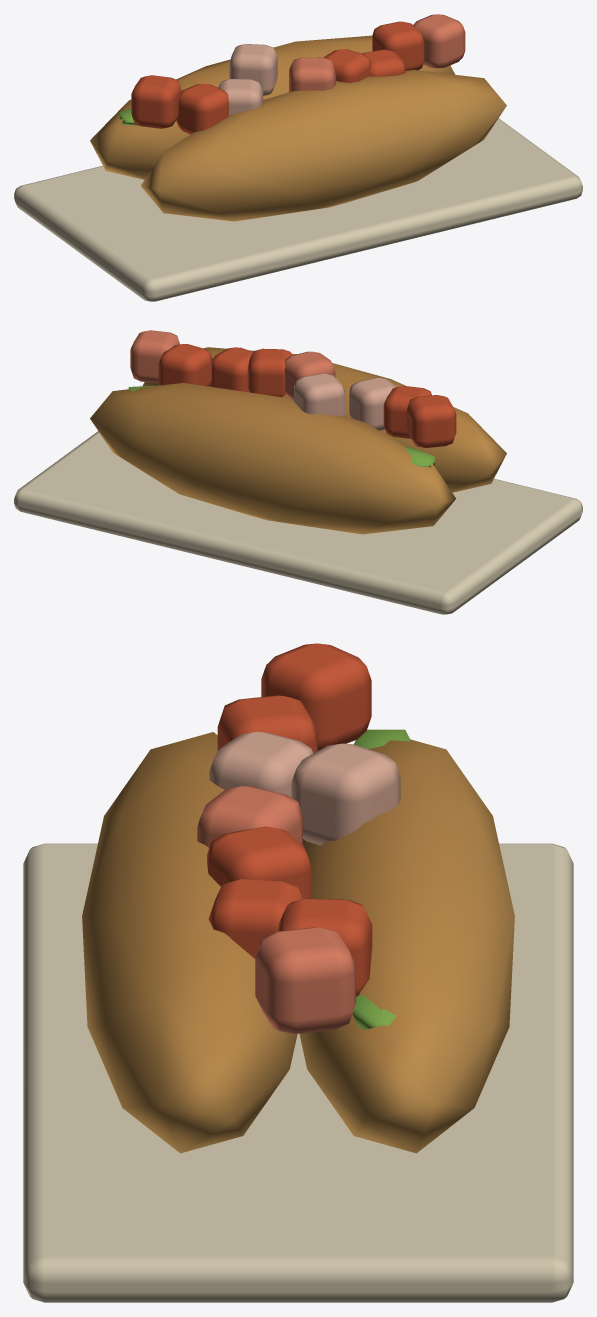
Rendered from item_dish_lobster_roll.glb.
3 views of the same model, one above another, from view 1: azimuth 30°, elevation 25°; view 2: azimuth 150°, elevation 25°; view 3: azimuth 270°, elevation 25° (orthographic). The views are drawn at different scales.
Visible parts, largest first — view 1: item_dish_lobster_roll_main; view 2: item_dish_lobster_roll_main; view 3: item_dish_lobster_roll_main.
Boxes of the visible parts, x1,y1,x2,y2 form: item_dish_lobster_roll_main: (14, 14, 582, 301); item_dish_lobster_roll_main: (14, 330, 582, 614); item_dish_lobster_roll_main: (23, 643, 573, 1302).
Size of the model in its own units: 0.24 by 0.0803 by 0.13.
